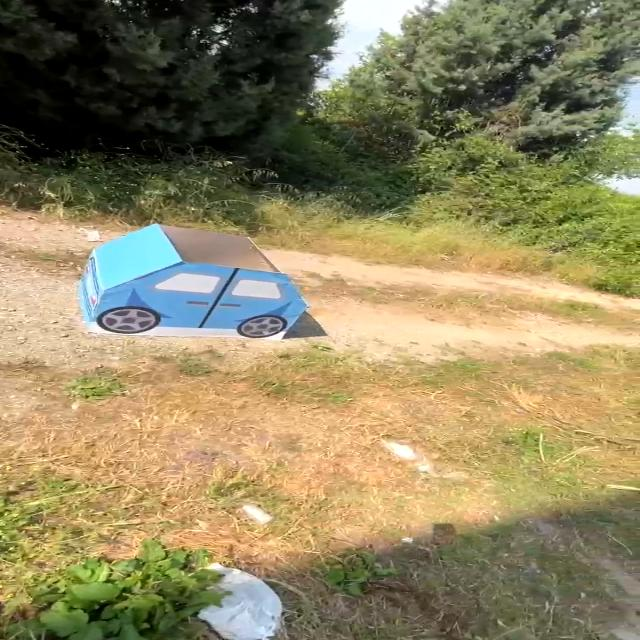blue_car: (47, 206, 323, 359)
